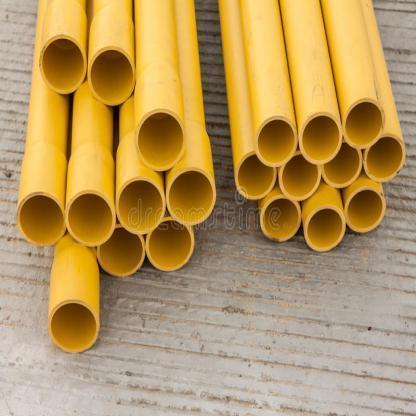pipe: (135, 108, 186, 170), (39, 34, 88, 94), (88, 45, 136, 105), (167, 168, 216, 226), (116, 176, 165, 234), (47, 299, 99, 353), (67, 189, 115, 246), (17, 191, 65, 247), (146, 216, 194, 271), (97, 224, 145, 277), (299, 111, 343, 164), (343, 98, 387, 148), (255, 116, 297, 168), (363, 133, 406, 183), (279, 151, 321, 200), (320, 141, 362, 188), (236, 152, 277, 200), (304, 205, 345, 253), (345, 188, 387, 234), (260, 196, 302, 241)
